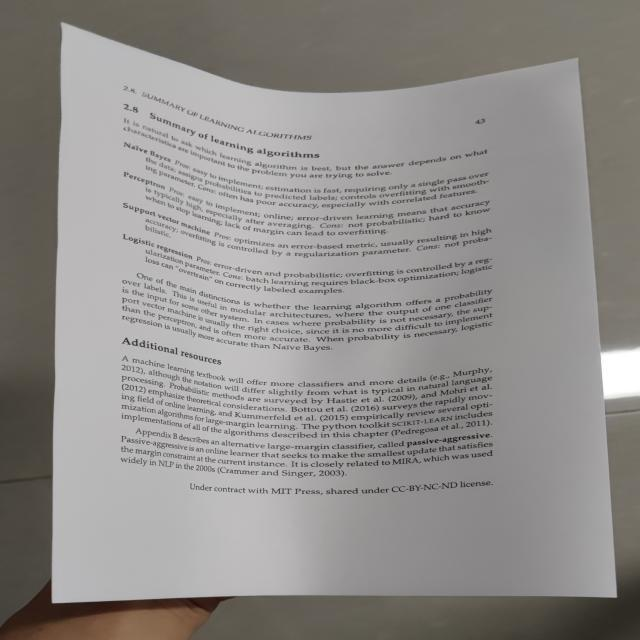document: (53, 25, 615, 601)
